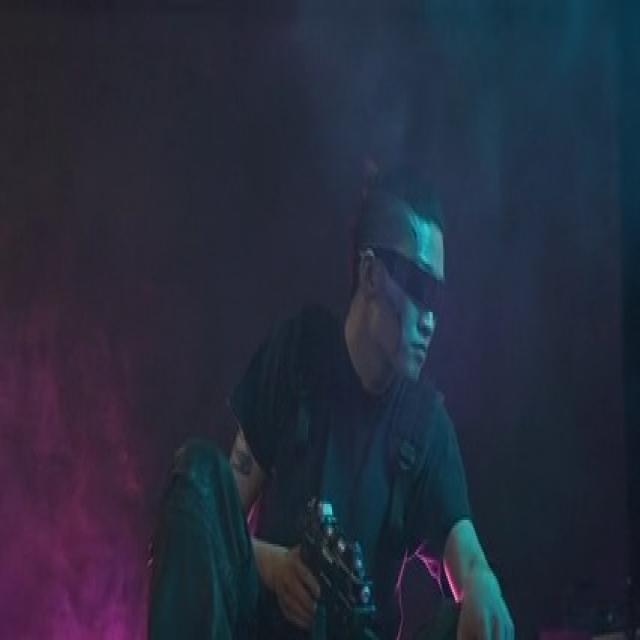Gun_Holder: (274, 483, 380, 640)
Person: (136, 141, 515, 640)
